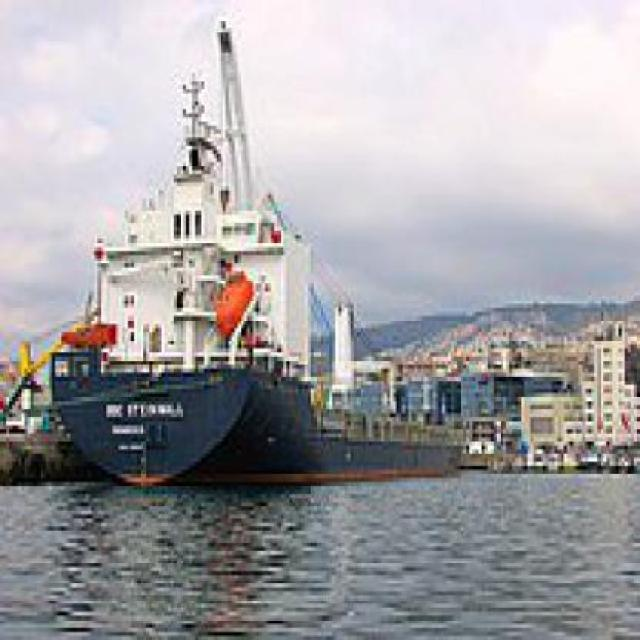container: (50, 9, 481, 495), (47, 337, 53, 342)
